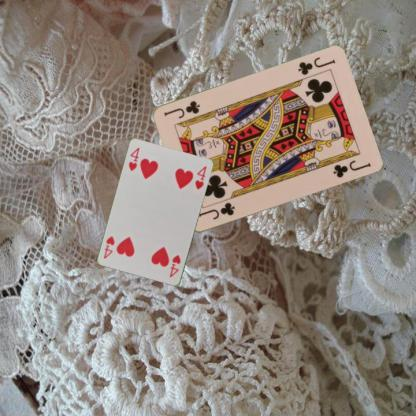4h: (167, 252, 182, 279), (126, 145, 141, 172)
Jc: (295, 54, 337, 77), (196, 200, 236, 221)
